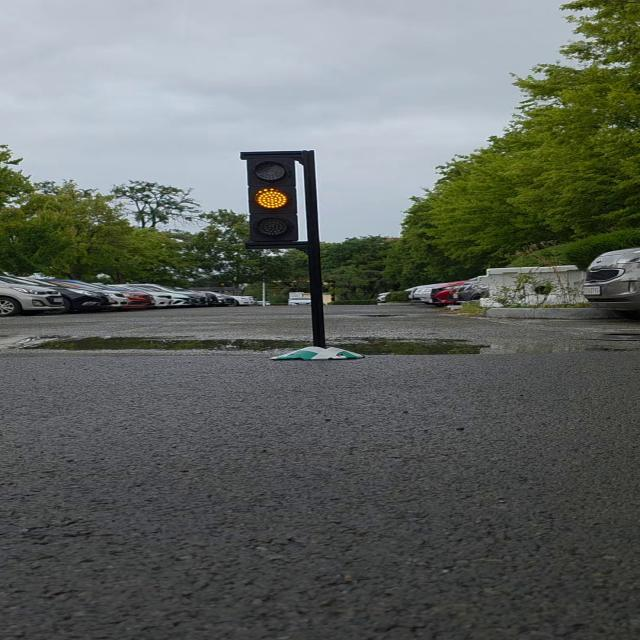yellow: (240, 152, 319, 246)
